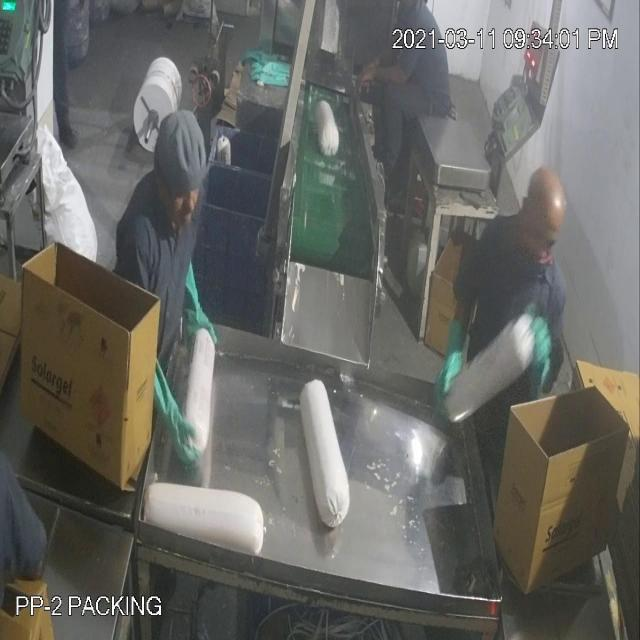No_Gloves: (38, 42, 538, 404)
